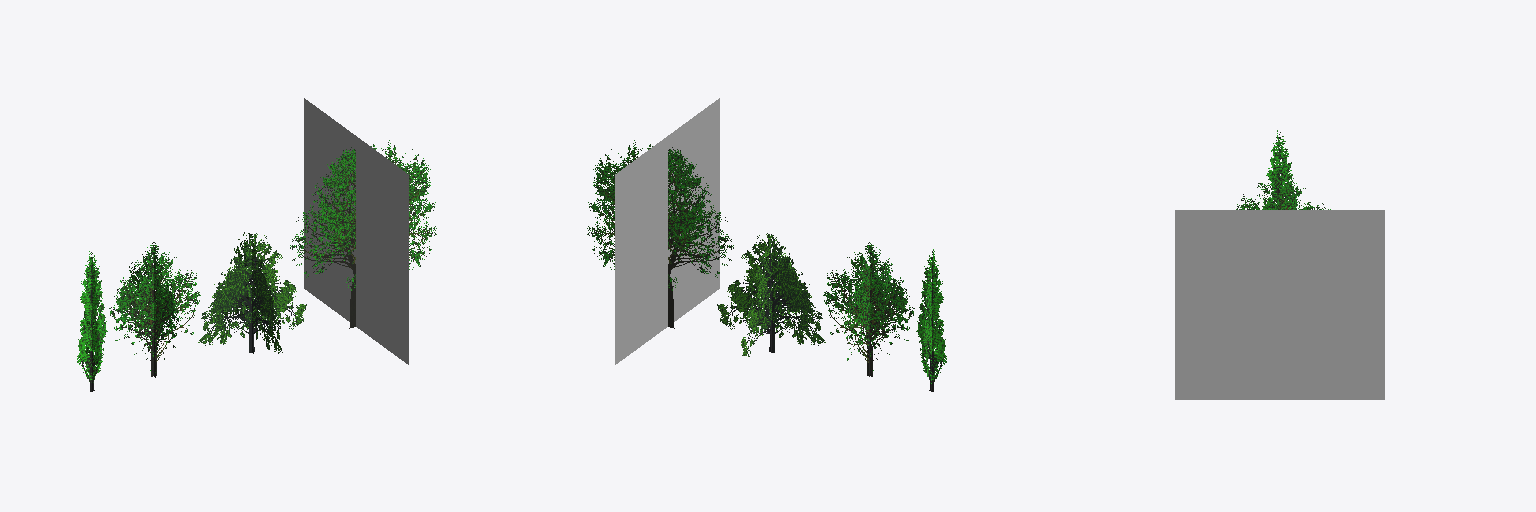
3 views of the same model, side by side, from view 1: azimuth 30°, elevation 25°; view 2: azimuth 150°, elevation 25°; view 3: azimuth 270°, elevation 25° (orthographic).
Bounding box in the file's own units: 20 × 10 × 10.
Materials: 5 (4 with a texture image).